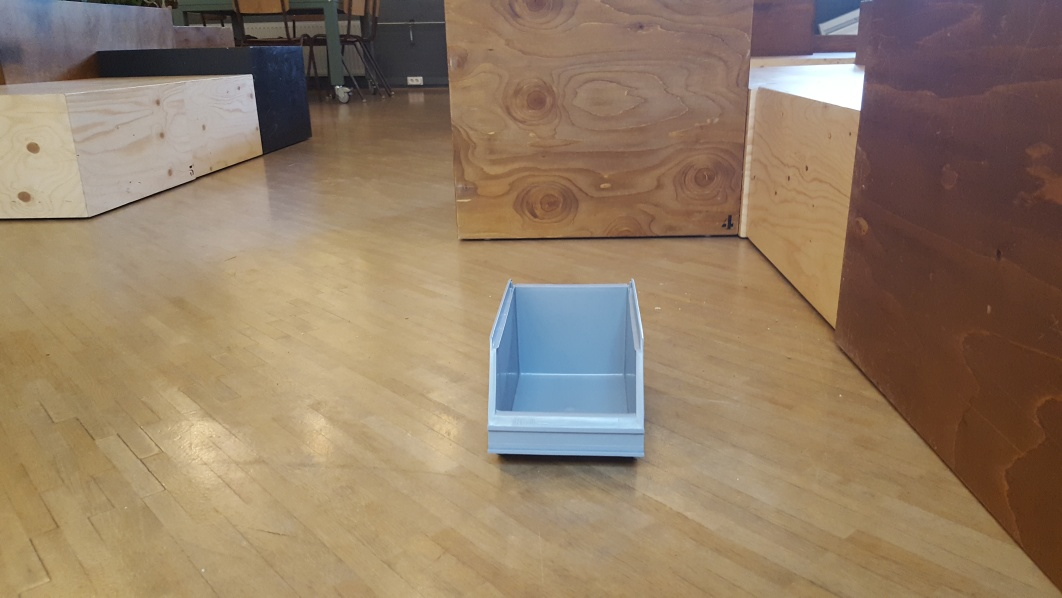tray: (486, 276, 650, 468)
